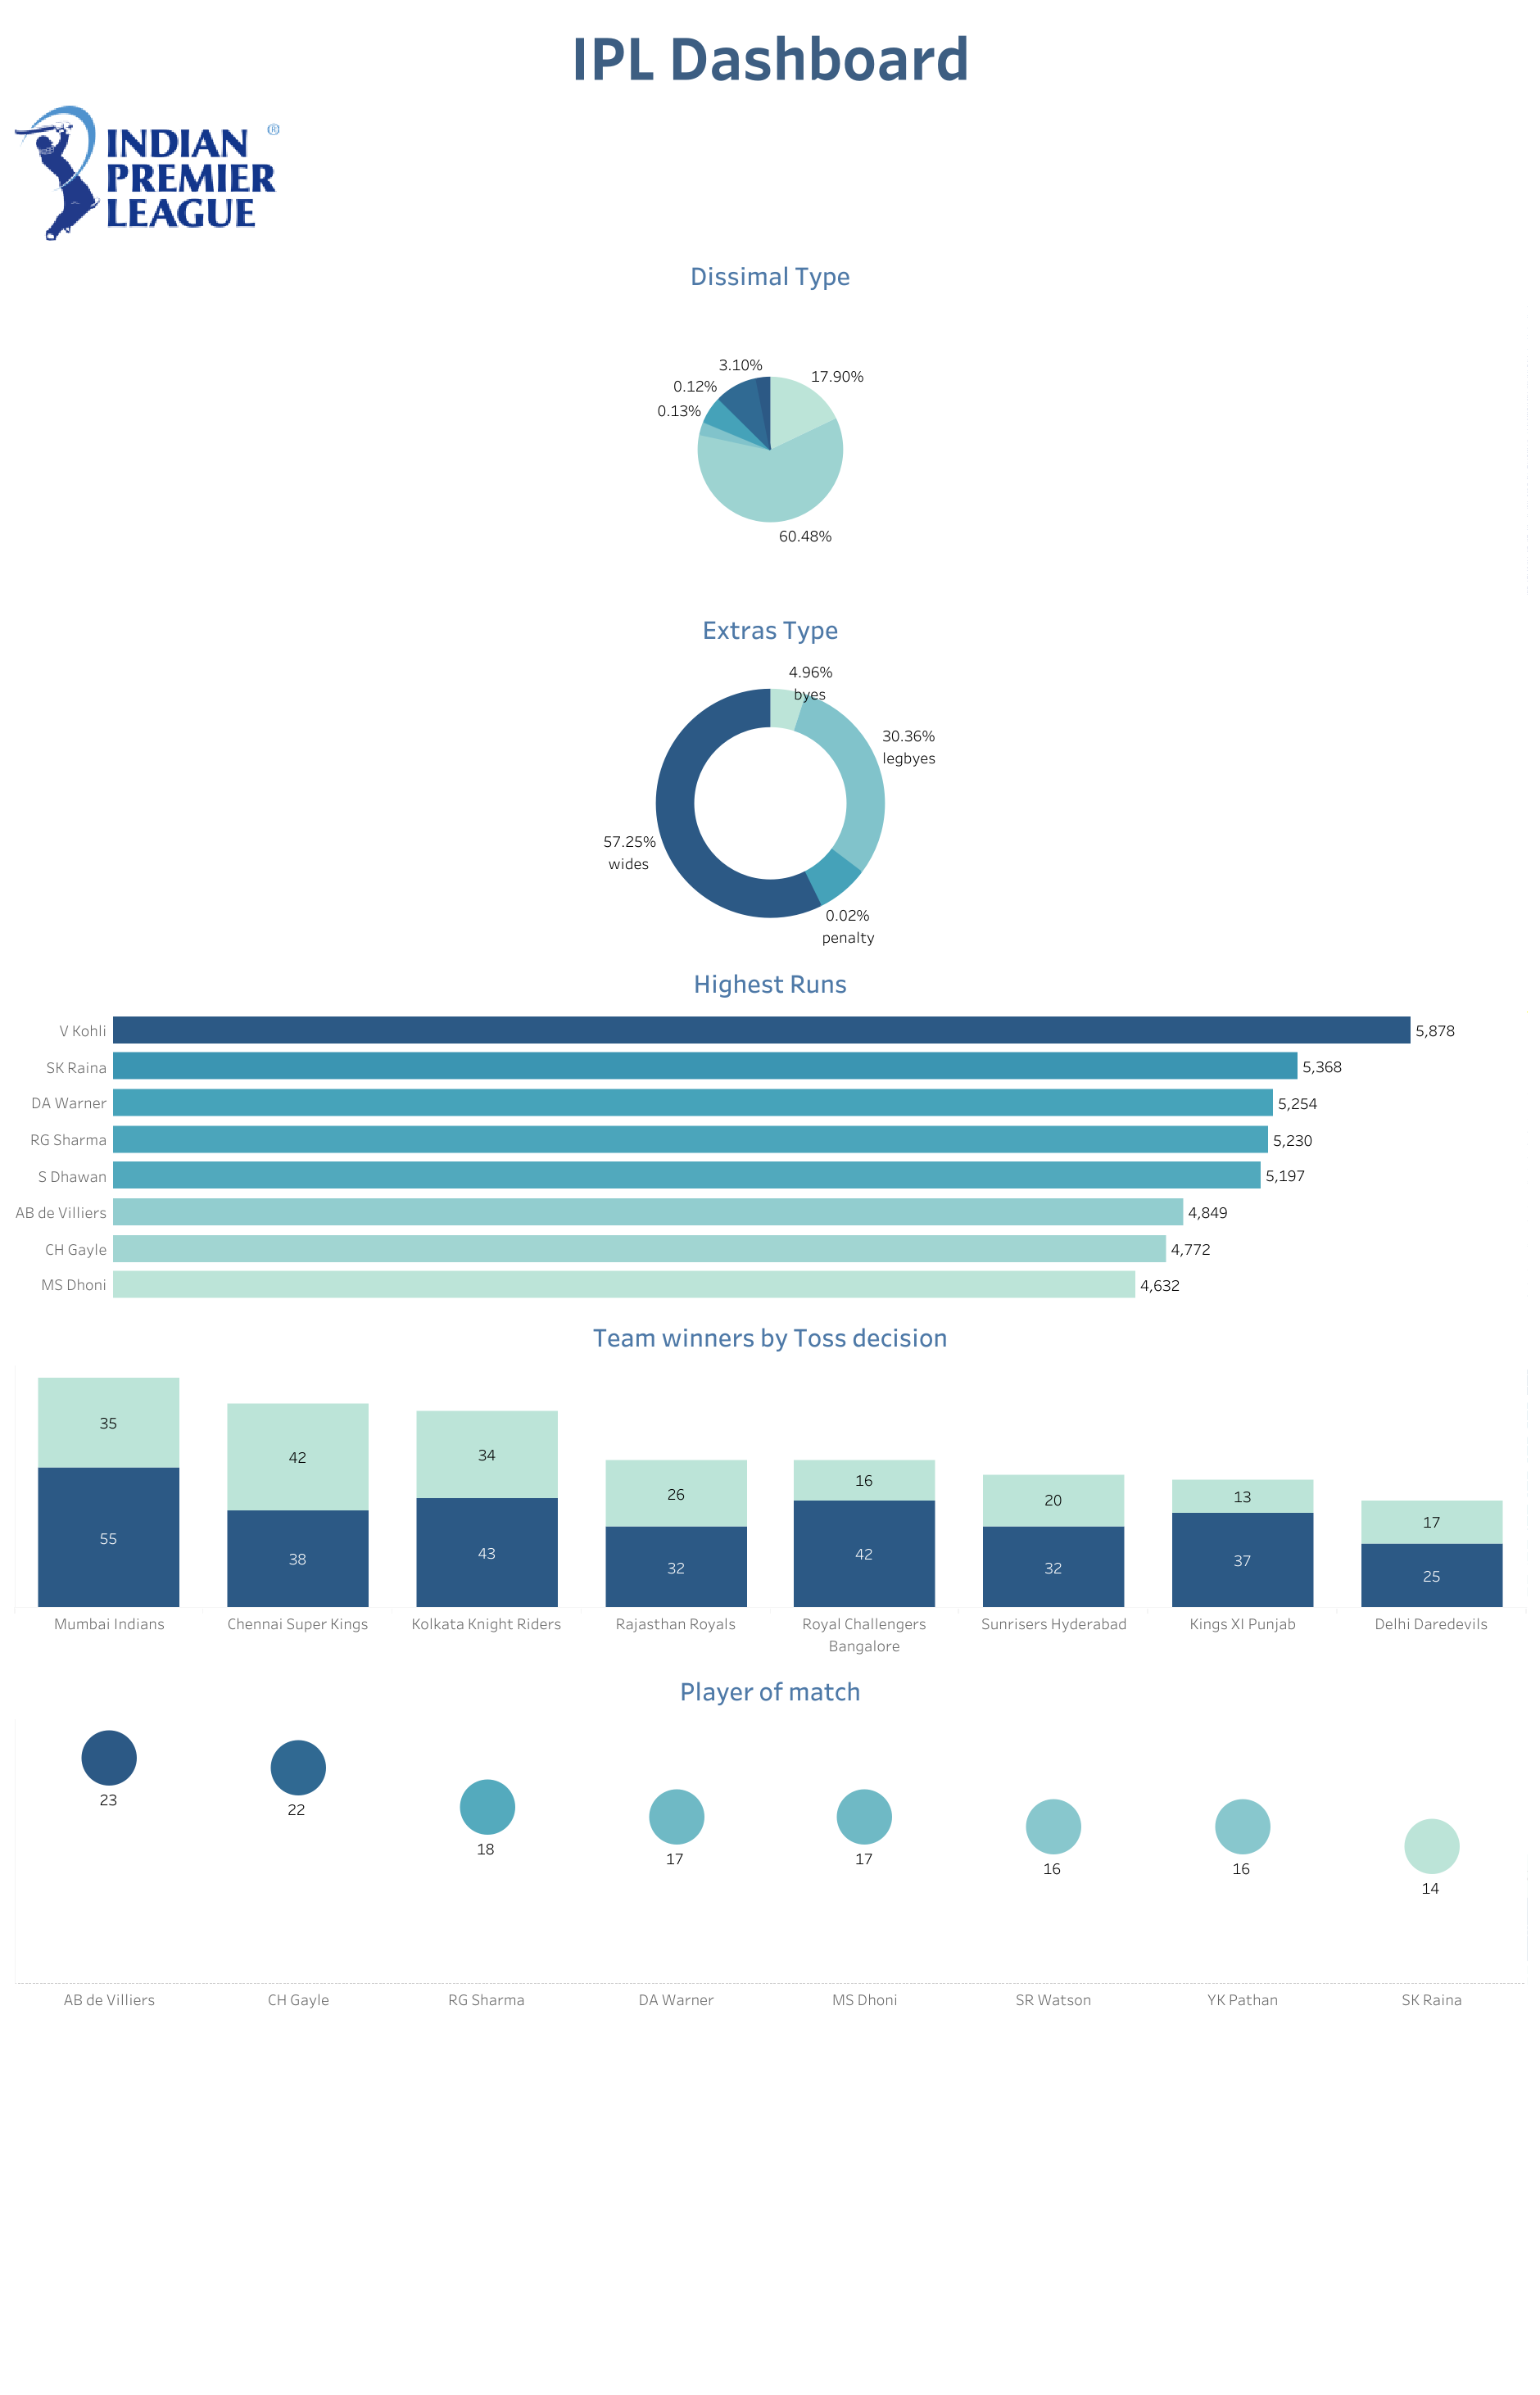

Layout of this report page (visuals, bound fields, positions):
{"tool":"tableau","page":{"name":"Dashboard 3","canvas":[1300,900],"ordinal":2},"visuals":[{"type":"title","box":[8,8,1284,120]},{"type":"filter","title":"Dissimal Type","param":"[federated.17xs4ja19ih1ux1cs5r701iaa3ky].[none:dismissal_kind:nk]","box":[1132,8,160,176.8]},{"type":"image","param":"Image/opla.png","box":[12,12,364,110]},{"type":"dashboard-object","box":[906,46,208,50]},{"type":"worksheet","title":"Dissimal Type","mark":"Pie","box":[8,128,428,382]},{"type":"worksheet","title":"Extras Type","mark":"Pie","rows":["Calculation_752382654656036870","Calculation_752382654656049160"],"box":[436,128,428,382]},{"type":"worksheet","title":"Highest Runs","mark":"Bar","rows":["batsman"],"cols":["batsman_runs"],"box":[864,128,428,382]},{"type":"filter","title":"Extras Type","param":"[federated.17xs4ja19ih1ux1cs5r701iaa3ky].[none:extras_type:nk]","box":[1132,184.8,160,176.8]},{"type":"filter","title":"Highest Runs","param":"[federated.17xs4ja19ih1ux1cs5r701iaa3ky].[none:batsman:nk]","box":[1132,361.6,160,176.8]},{"type":"worksheet","title":"Team winners by Toss decision","mark":"Automatic","rows":["toss_decision"],"cols":["winner"],"box":[8,510,668,382]},{"type":"worksheet","title":"Player of match","mark":"Circle","rows":["player_of_match"],"cols":["player_of_match"],"box":[676,510,616,382]},{"type":"filter","title":"Team winners by Toss decision","param":"[federated.17xs4ja19ih1ux1cs5r701iaa3ky].[none:winner:nk]","box":[1132,538.4,160,176.8]},{"type":"filter","title":"Player of match","param":"[federated.17xs4ja19ih1ux1cs5r701iaa3ky].[none:player_of_match:nk]","box":[1132,715.2,160,176.8]}]}

Visuals, with their boxes on the page's 1300x900 design canvas (x1, y1, x2, y2). These are canvas units, not pixel positions in the 1540x2395 screenshot, which may show the page scaled, cropped or inside an application window:
title: locate(8, 8, 1292, 128)
"Dissimal Type" filter: locate(1132, 8, 1292, 185)
image: locate(12, 12, 376, 122)
dashboard-object: locate(906, 46, 1114, 96)
"Dissimal Type" worksheet (Pie marks): locate(8, 128, 436, 510)
"Extras Type" worksheet (Pie marks): locate(436, 128, 864, 510)
"Highest Runs" worksheet (Bar marks): locate(864, 128, 1292, 510)
"Extras Type" filter: locate(1132, 185, 1292, 362)
"Highest Runs" filter: locate(1132, 362, 1292, 538)
"Team winners by Toss decision" worksheet: locate(8, 510, 676, 892)
"Player of match" worksheet (Circle marks): locate(676, 510, 1292, 892)
"Team winners by Toss decision" filter: locate(1132, 538, 1292, 715)
"Player of match" filter: locate(1132, 715, 1292, 892)
